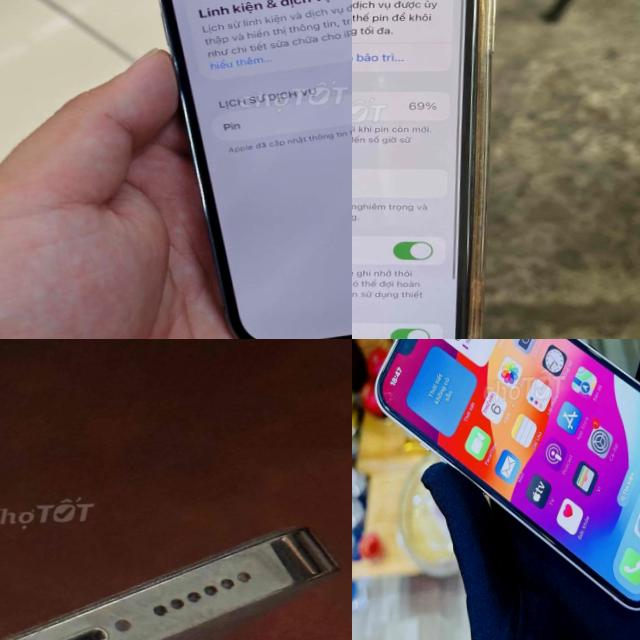gen_12_13: (370, 339, 640, 621)
gen_14: (127, 0, 352, 339), (0, 510, 345, 640)
gen_x_xs: (352, 0, 509, 339)
